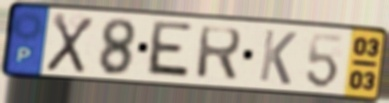5: (305, 30, 347, 89)
8: (98, 17, 139, 77)
E: (143, 18, 195, 82)
K: (256, 27, 299, 87)
R: (194, 24, 245, 83)
X: (43, 11, 97, 76)
